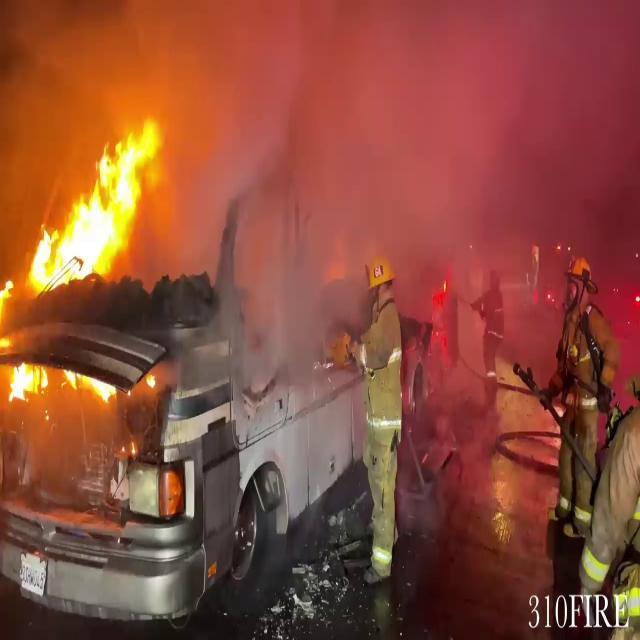Fire: (0, 113, 160, 354)
Smoke: (135, 1, 628, 318)
